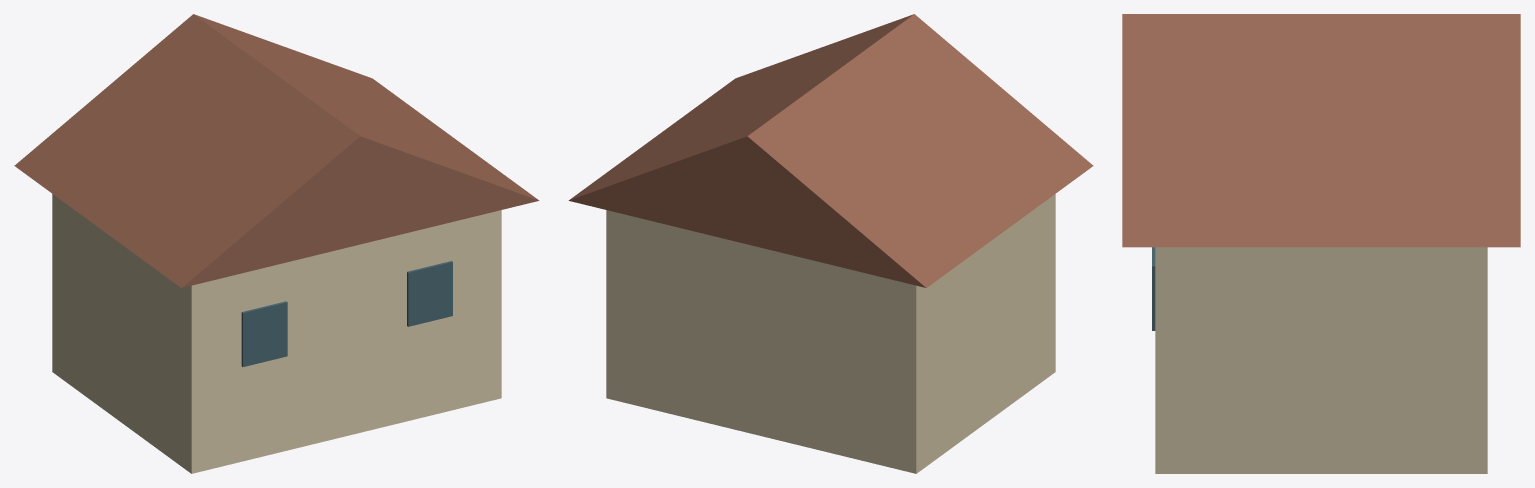
File: chalet.glb
The picture shows the model from 3 angles, left to right: view 1: azimuth 30°, elevation 25°; view 2: azimuth 150°, elevation 25°; view 3: azimuth 270°, elevation 25°; orthographic projection. The views are drawn at different scales.
Visible parts, largest first — view 1: Chalet walls, Copper roof, Window, Window.001; view 2: Chalet walls, Copper roof; view 3: Copper roof, Chalet walls.
Boxes of the visible parts, x1=… form: Chalet walls: x1=52, y1=194, x2=501, y2=473; Copper roof: x1=14, y1=14, x2=539, y2=287; Window: x1=241, y1=301, x2=287, y2=366; Window.001: x1=407, y1=261, x2=452, y2=326; Chalet walls: x1=606, y1=194, x2=1055, y2=473; Copper roof: x1=568, y1=14, x2=1093, y2=287; Copper roof: x1=1122, y1=14, x2=1520, y2=247; Chalet walls: x1=1155, y1=247, x2=1487, y2=473.
Size of the model in its own units: 5.2 by 4.3 by 4.2.
